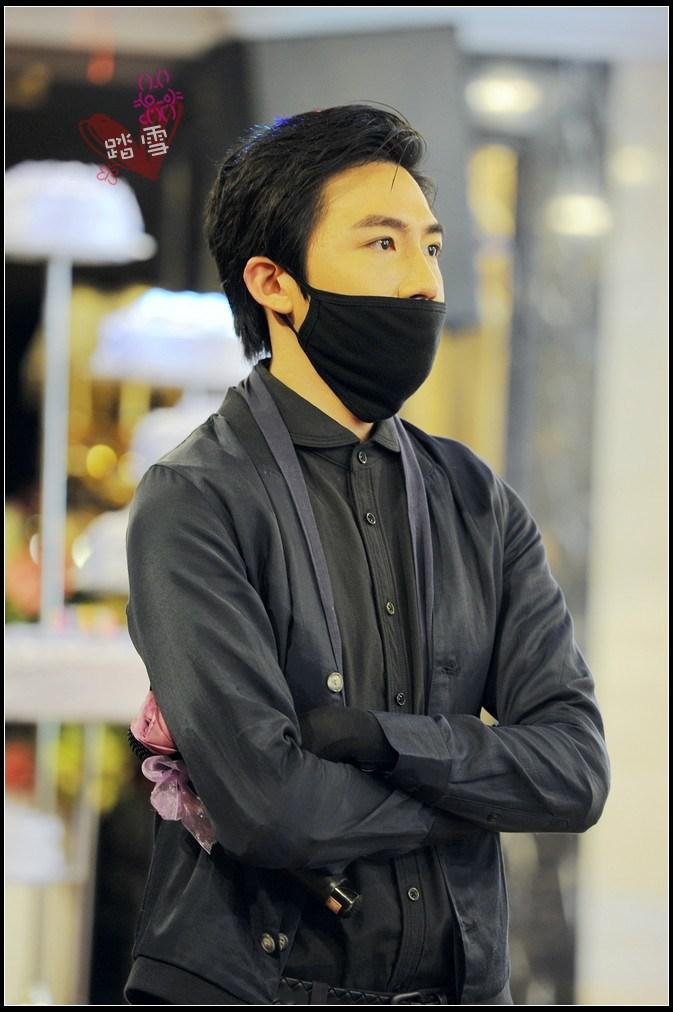WRONG: (263, 212, 446, 395)
